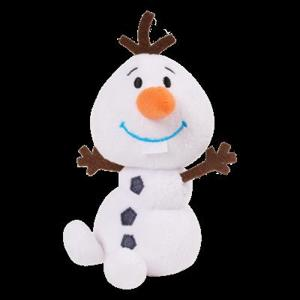olaf: (83, 7, 220, 291)
